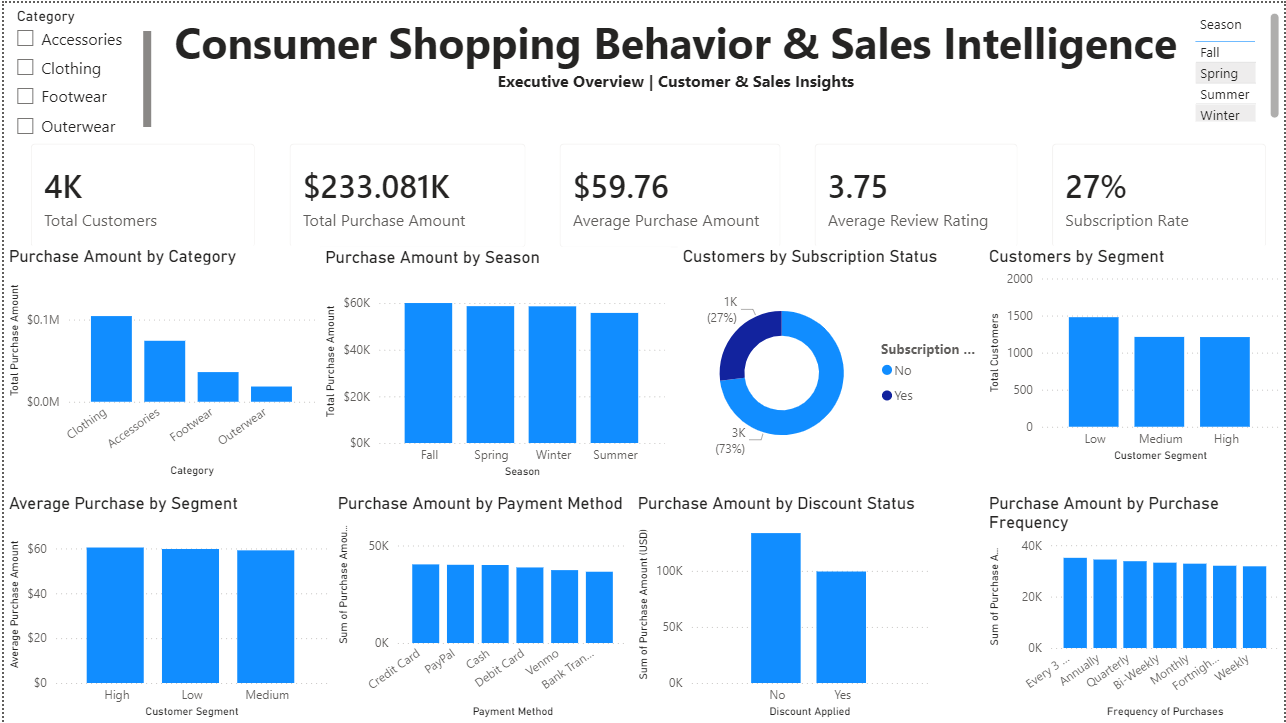

This screenshot's page, from the dashboard's own definition file:
{"tool":"powerbi","page":{"name":"Executive Overview","canvas":[1280,720],"ordinal":0},"visuals":[{"type":"cardVisual","fields":{"Data":["customer_shopping_behavior_cleaned.Total Customers"]},"box":[10,123.8,258.8,138.8],"z":0},{"type":"cardVisual","fields":{"Data":["customer_shopping_behavior_cleaned.Total Purchase Amount"]},"box":[268.8,123.8,270,138.8],"z":1000},{"type":"cardVisual","fields":{"Data":["customer_shopping_behavior_cleaned.Average Purchase Amount"]},"box":[538.8,123.8,255,138.8],"z":2000},{"type":"cardVisual","fields":{"Data":["customer_shopping_behavior_cleaned.Average Review Rating"]},"box":[793.8,123.8,237.5,138.8],"z":3000},{"type":"cardVisual","fields":{"Data":["customer_shopping_behavior_cleaned.Subscription Rate"]},"box":[1031.2,123.8,248.8,138.8],"z":4000},{"type":"clusteredColumnChart","title":"Purchase Amount by Category","fields":{"Category":["customer_shopping_behavior_cleaned.Category"],"Y":["customer_shopping_behavior_cleaned.Total Purchase Amount"]},"box":[0,242.5,316.2,236.2],"z":5000},{"type":"clusteredColumnChart","title":"Purchase Amount by Season","fields":{"Category":["customer_shopping_behavior_cleaned.Season"],"Y":["customer_shopping_behavior_cleaned.Total Purchase Amount"]},"box":[316.2,243.8,350,236.2],"z":6000},{"type":"donutChart","title":"Customers by Subscription Status","fields":{"Category":["customer_shopping_behavior_cleaned.Subscription Status"],"Y":["customer_shopping_behavior_cleaned.Total Customers"]},"box":[673.8,242.5,306.2,236.2],"z":7000},{"type":"clusteredColumnChart","title":"Customers by Segment","fields":{"Category":["customer_shopping_behavior_cleaned.Customer Segment"],"Y":["customer_shopping_behavior_cleaned.Total Customers"]},"box":[980,242.5,300,221.2],"z":8000},{"type":"clusteredColumnChart","title":"Average Purchase by Segment","fields":{"Category":["customer_shopping_behavior_cleaned.Customer Segment"],"Y":["customer_shopping_behavior_cleaned.Average Purchase Amount"]},"box":[0,490,328.8,230],"z":9000},{"type":"textbox","box":[0,5,1031.2,90],"z":10000},{"type":"tableEx","fields":{"Values":["customer_shopping_behavior_cleaned.Season"]},"box":[1185,5,95,118.8],"z":11000},{"type":"slicer","fields":{"Values":["customer_shopping_behavior_cleaned.Category"]},"box":[1031.2,5,152.5,90],"z":12000},{"type":"clusteredColumnChart","title":"Purchase Amount by Payment Method","fields":{"Category":["customer_shopping_behavior_cleaned.Payment Method"],"Y":["Sum(customer_shopping_behavior_cleaned.Purchase Amount (USD))"]},"box":[328.8,490,300,230],"z":13000},{"type":"clusteredColumnChart","title":"Purchase Amount by Discount Status","fields":{"Category":["customer_shopping_behavior_cleaned.Discount Applied"],"Y":["Sum(customer_shopping_behavior_cleaned.Purchase Amount (USD))"]},"box":[628.8,490,300,230],"z":14000},{"type":"clusteredColumnChart","title":"Purchase Amount by Purchase Frequency","fields":{"Category":["customer_shopping_behavior_cleaned.Frequency of Purchases"],"Y":["Sum(customer_shopping_behavior_cleaned.Purchase Amount (USD))"]},"box":[980,490,300,230],"z":15000}]}

Visuals, with their boxes in screenshot pixels (x1, y1, x2, y2), scaled from the page's 1280x720 canvas onto the 1286x723 screenshot:
cardVisual - customer_shopping_behavior_cleaned.Total Customers: <box>10,124,270,264</box>
cardVisual - customer_shopping_behavior_cleaned.Total Purchase Amount: <box>270,124,541,264</box>
cardVisual - customer_shopping_behavior_cleaned.Average Purchase Amount: <box>541,124,798,264</box>
cardVisual - customer_shopping_behavior_cleaned.Average Review Rating: <box>798,124,1036,264</box>
cardVisual - customer_shopping_behavior_cleaned.Subscription Rate: <box>1036,124,1285,264</box>
"Purchase Amount by Category" clusteredColumnChart: <box>0,244,318,481</box>
"Purchase Amount by Season" clusteredColumnChart: <box>318,245,669,482</box>
"Customers by Subscription Status" donutChart: <box>677,244,985,481</box>
"Customers by Segment" clusteredColumnChart: <box>985,244,1285,466</box>
"Average Purchase by Segment" clusteredColumnChart: <box>0,492,330,722</box>
textbox: <box>0,5,1036,95</box>
tableEx - customer_shopping_behavior_cleaned.Season: <box>1191,5,1285,124</box>
slicer - customer_shopping_behavior_cleaned.Category: <box>1036,5,1189,95</box>
"Purchase Amount by Payment Method" clusteredColumnChart: <box>330,492,632,722</box>
"Purchase Amount by Discount Status" clusteredColumnChart: <box>632,492,933,722</box>
"Purchase Amount by Purchase Frequency" clusteredColumnChart: <box>985,492,1285,722</box>
